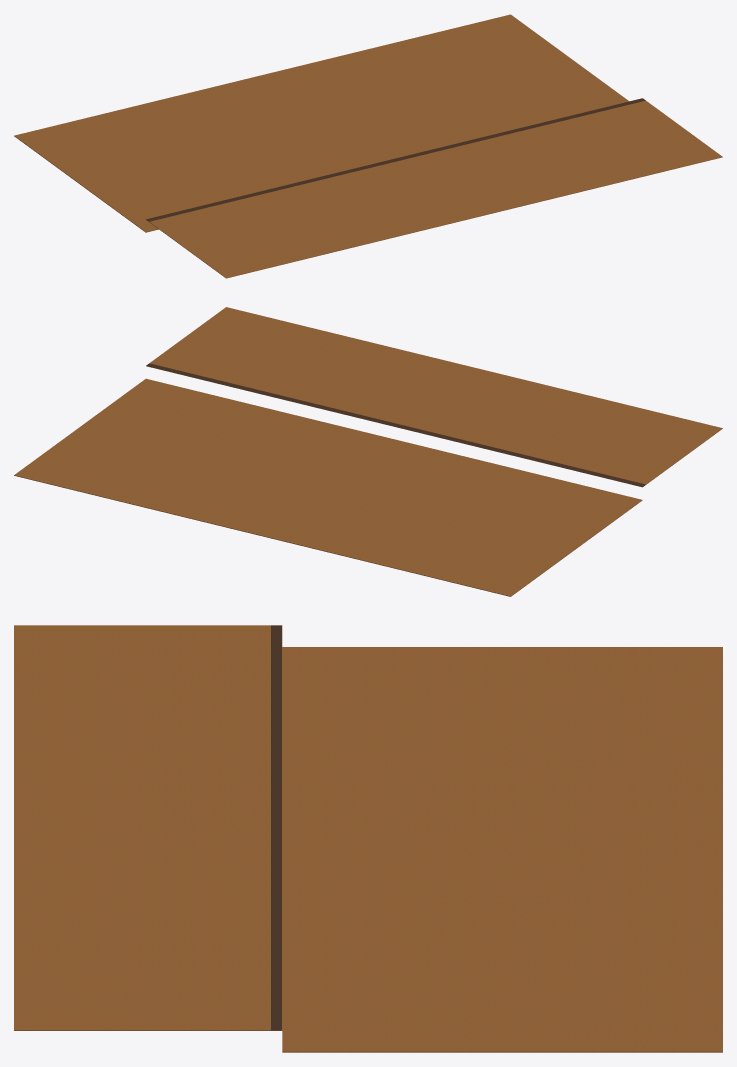
Rendered from terrain.blend.glb.
3 views of the same model, one above another, from view 1: azimuth 30°, elevation 25°; view 2: azimuth 150°, elevation 25°; view 3: azimuth 270°, elevation 25° (orthographic). The views are drawn at different scales.
Parts seen in each view (by area): view 1: Seabed, Dry beach, Wet sand; view 2: Seabed, Dry beach, Wet sand; view 3: Seabed, Dry beach, Wet sand.
Boxes of the visible parts, x1=… form: Seabed: x1=14, y1=14, x2=628, y2=232; Dry beach: x1=146, y1=100, x2=722, y2=278; Wet sand: x1=146, y1=98, x2=645, y2=221; Seabed: x1=14, y1=378, x2=642, y2=596; Dry beach: x1=146, y1=307, x2=722, y2=487; Wet sand: x1=146, y1=363, x2=645, y2=486; Seabed: x1=282, y1=647, x2=722, y2=1052; Dry beach: x1=14, y1=625, x2=282, y2=1030; Wet sand: x1=271, y1=625, x2=281, y2=1030.
Size of the model in its own units: 200 by 5.17 by 148.
3 materials, 3 textured.
